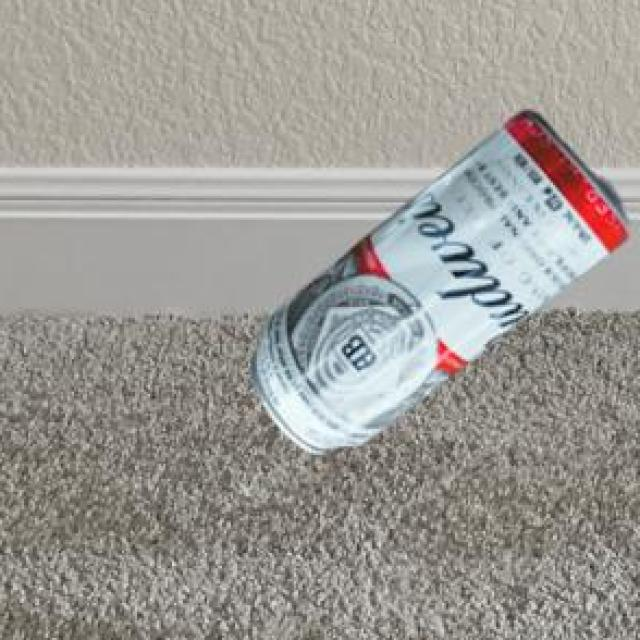logam: (249, 108, 624, 450)
